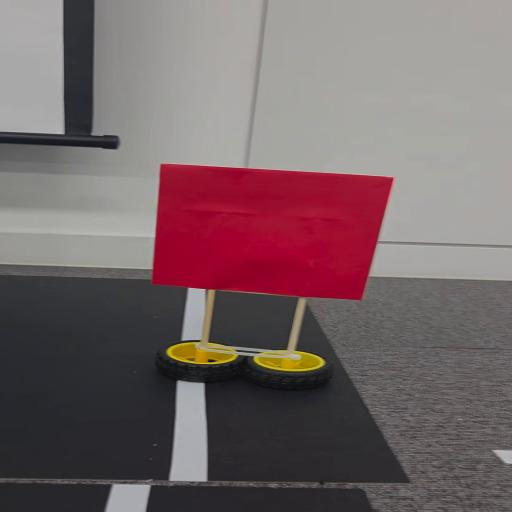Sign_A: (142, 157, 391, 385)
